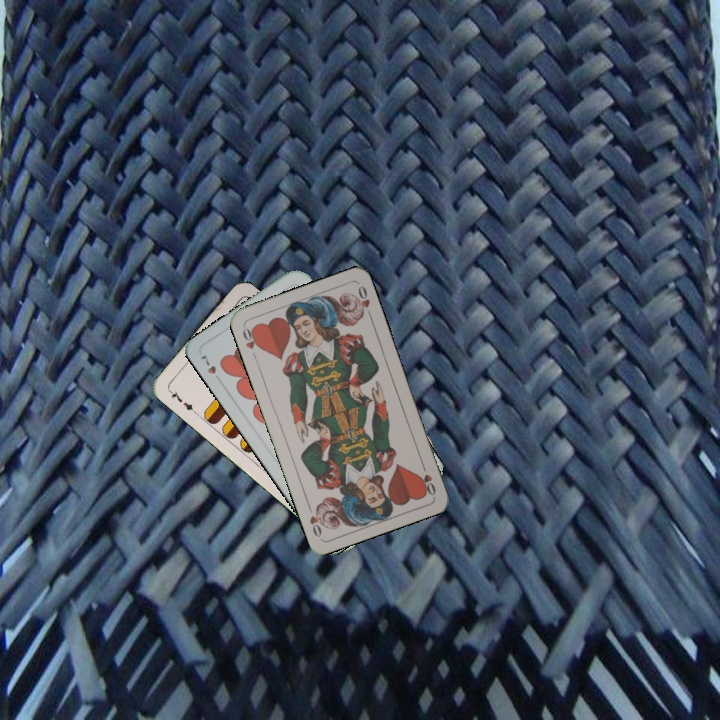E7: (165, 386, 199, 416)
H7: (196, 350, 225, 386)
HO: (238, 323, 263, 362), (417, 459, 438, 498)
